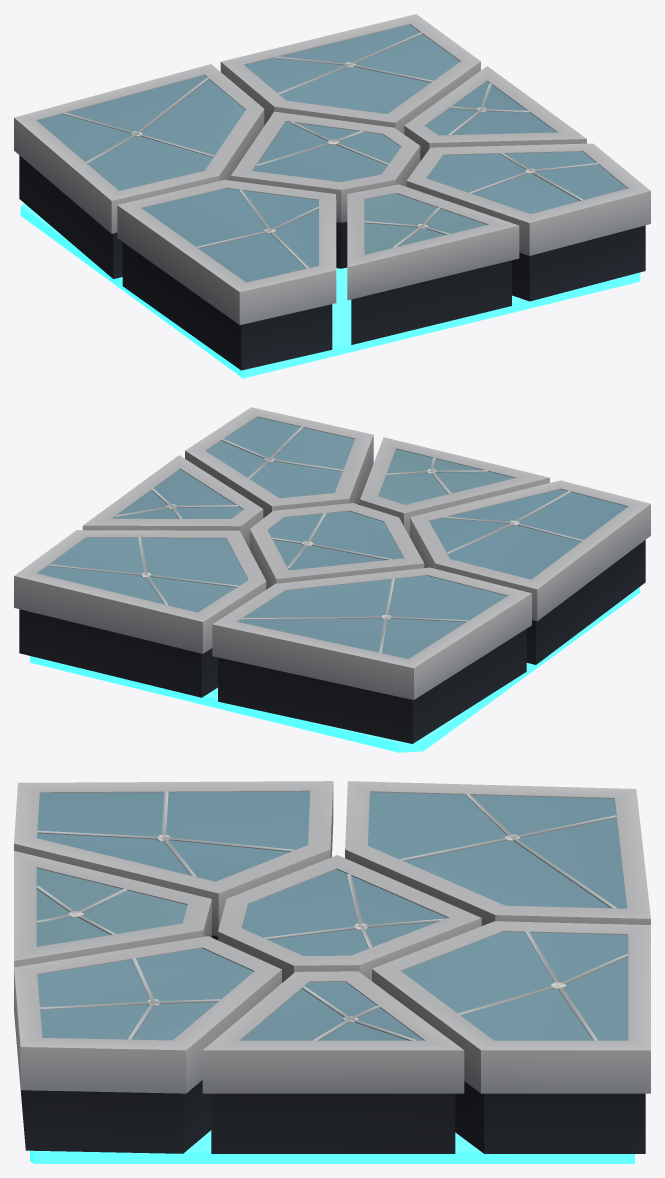
File: crumble_space.glb
3 renders of one model, top to bottom at view 1: azimuth 30°, elevation 25°; view 2: azimuth 150°, elevation 25°; view 3: azimuth 270°, elevation 25°, orthographic. The views are drawn at different scales.
Parts seen in each view (by area): view 1: crumble_space; view 2: crumble_space; view 3: crumble_space.
Part boxes in pixels (x1=…): crumble_space: x1=14, y1=14, x2=650, y2=378; crumble_space: x1=14, y1=407, x2=650, y2=752; crumble_space: x1=14, y1=781, x2=650, y2=1163.
Bounding box in the file's own units: 2.4 × 0.5 × 2.4.
